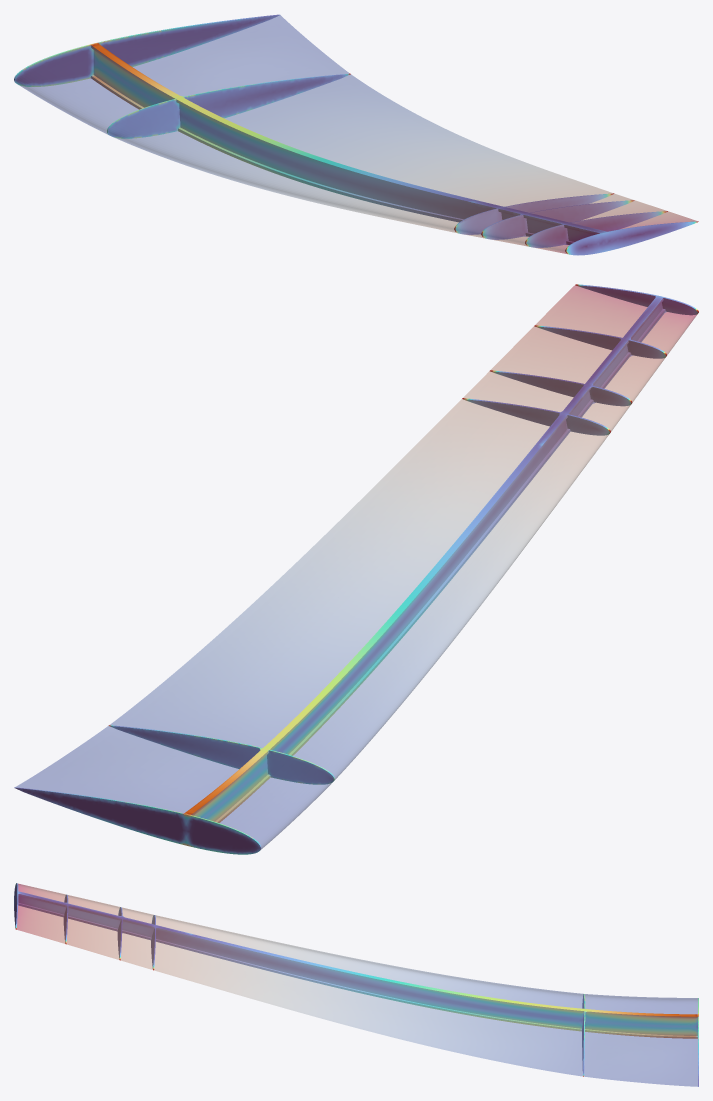
The picture shows the model from 3 angles, top to bottom: view 1: azimuth 30°, elevation 25°; view 2: azimuth 150°, elevation 25°; view 3: azimuth 270°, elevation 25°; orthographic projection. The views are drawn at different scales.
Size of the model in its own units: 300 by 235 by 1004.
